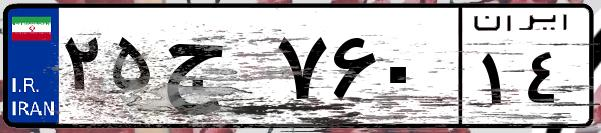0: (385, 28, 445, 110)
1: (475, 38, 525, 113)
2: (57, 26, 110, 100)
4: (525, 38, 570, 115)
5: (110, 28, 158, 98)
6: (330, 28, 385, 110)
7: (270, 28, 330, 110)
ج: (158, 20, 270, 120)
